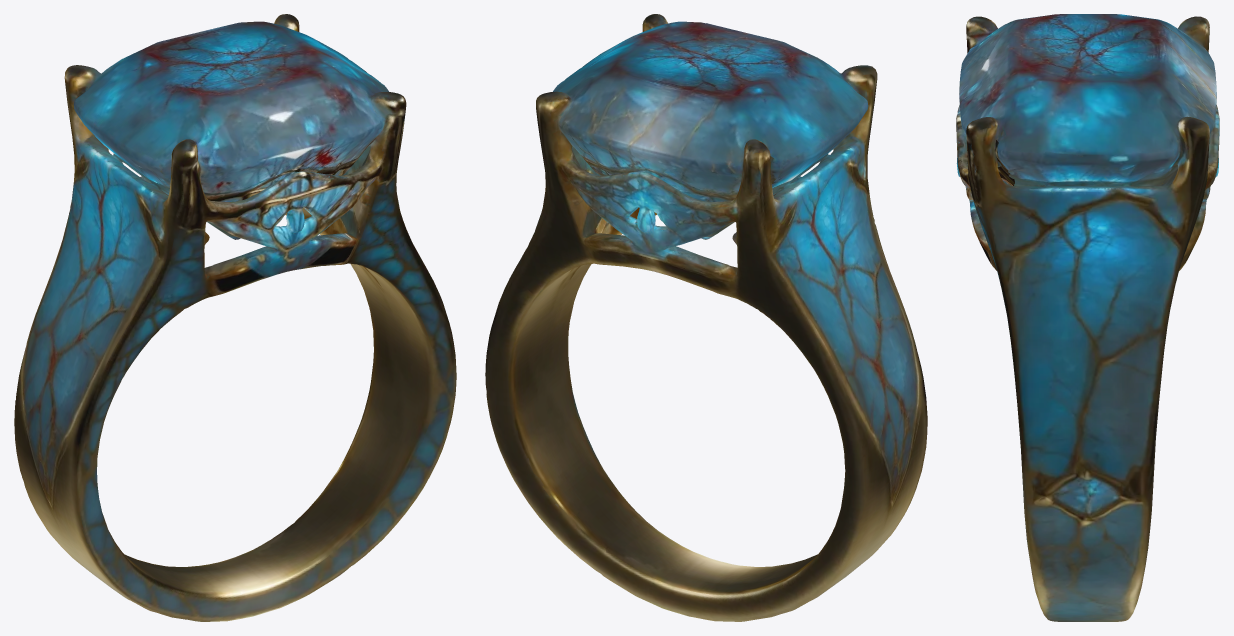
File: gold_ring_with_a_diamond.glb
The picture shows the model from 3 angles, left to right: view 1: azimuth 30°, elevation 25°; view 2: azimuth 150°, elevation 25°; view 3: azimuth 270°, elevation 25°; orthographic projection.
Parts seen in each view (by area): view 1: Object_4; view 2: Object_4; view 3: Object_4.
Part boxes in pixels (x1=…): Object_4: x1=14, y1=14, x2=456, y2=621; Object_4: x1=485, y1=14, x2=927, y2=621; Object_4: x1=956, y1=14, x2=1219, y2=621.
Size of the model in its own units: 1.48 by 2 by 0.8658.
1 material, 1 textured.
